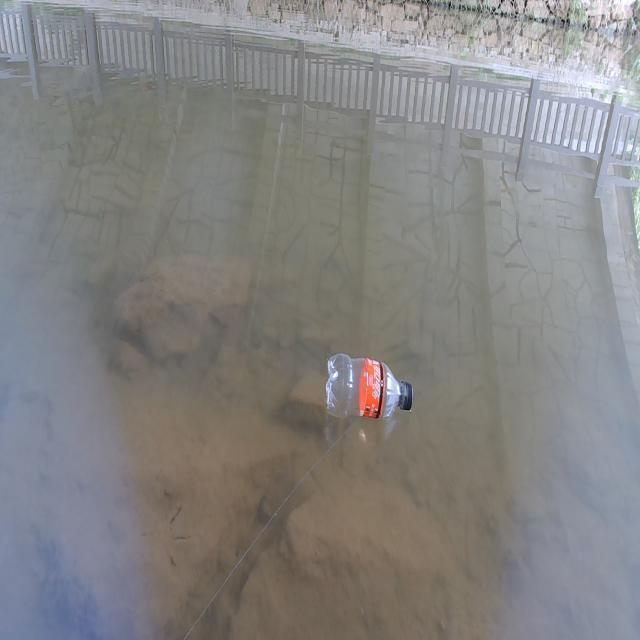bottle: (304, 317, 430, 448)
